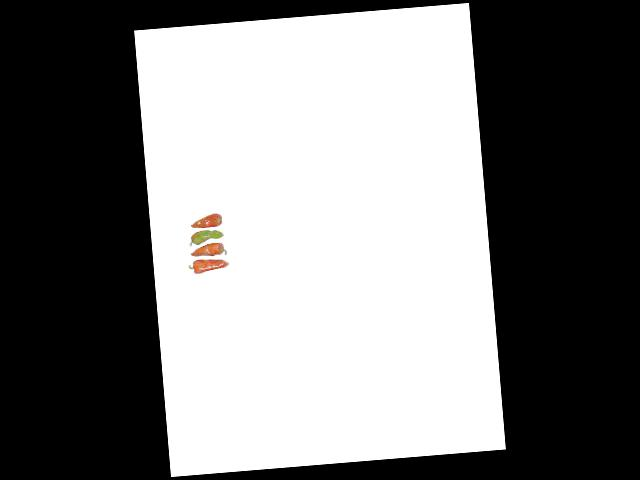bell_pepper: (186, 209, 223, 230)
